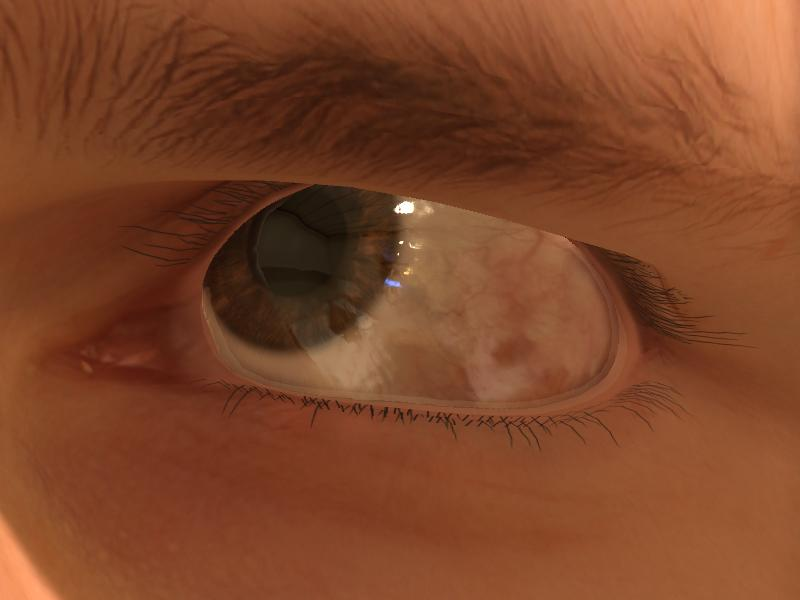eye: (208, 182, 399, 347)
